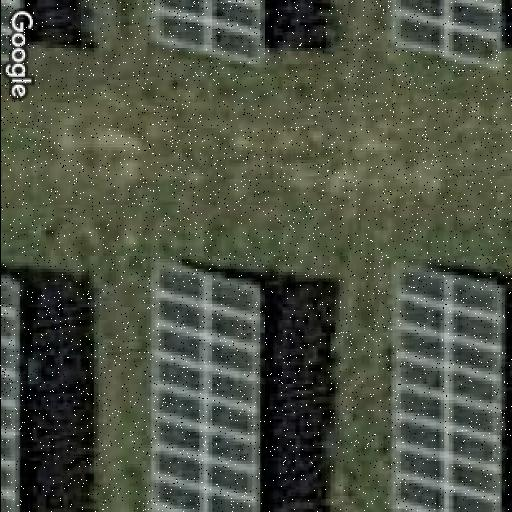solar-panel: (148, 257, 263, 512), (397, 269, 504, 512), (146, 0, 258, 61), (388, 4, 500, 54), (0, 277, 23, 512), (0, 0, 29, 69)
